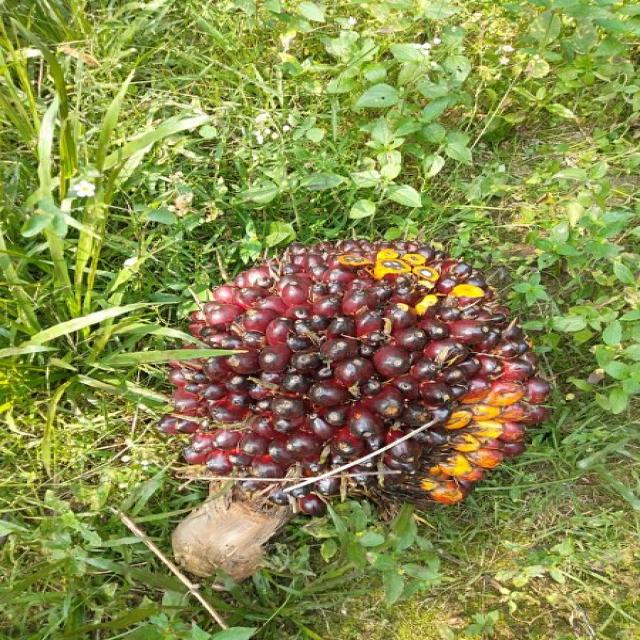fraksi 1: (114, 174, 577, 558)
